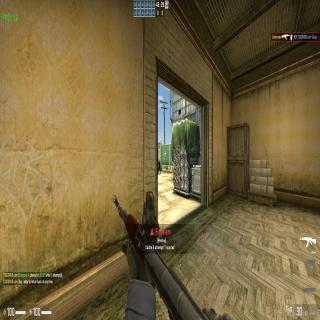CT-Body: (158, 162, 161, 174)
CT-Head: (158, 160, 160, 163)
